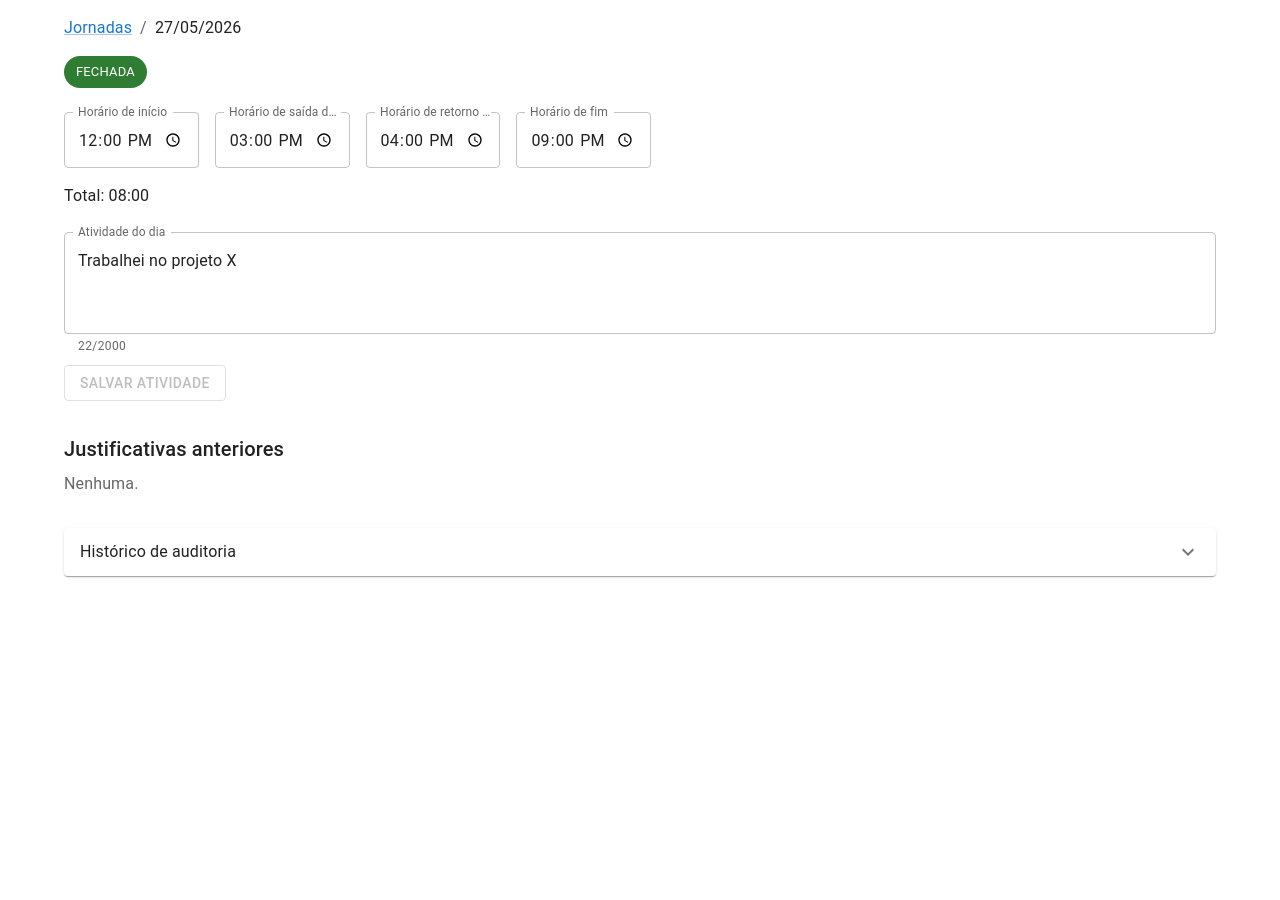
Test: JornadaDetalhePage › expandir accordion Histórico de auditoria carrega GET /auditoria lazy
What coordinates should you click on to do the following:
click the button "Histórico de auditoria"
I would click on:
 (158, 552)
Its box is [80,540,1200,564].
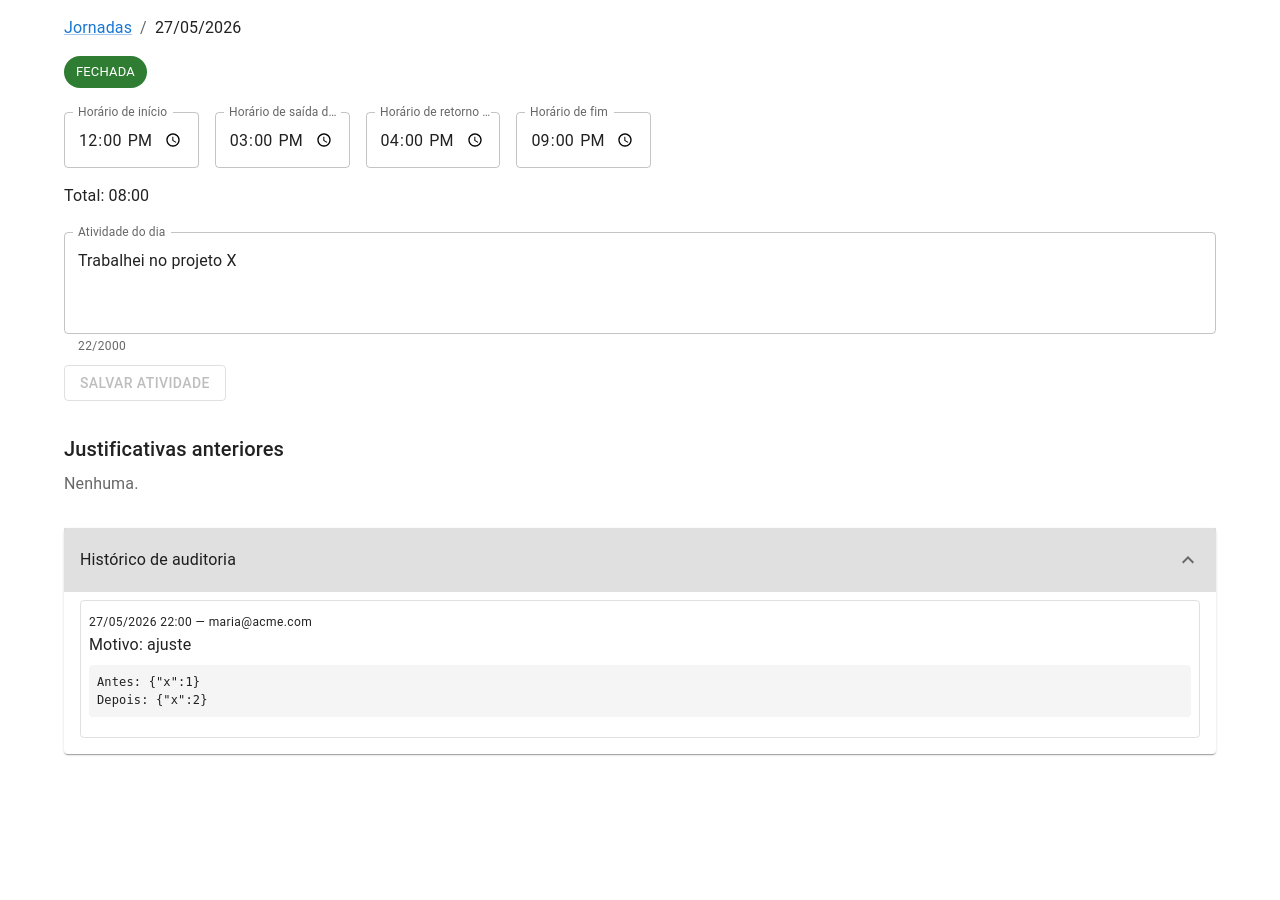
Check: the button "Histórico de auditoria" is expanded, box [64,528,1216,592]
Check: the text "27/05/2026 22:00 — maria@acme.com" is shown, box [89,615,312,629]
